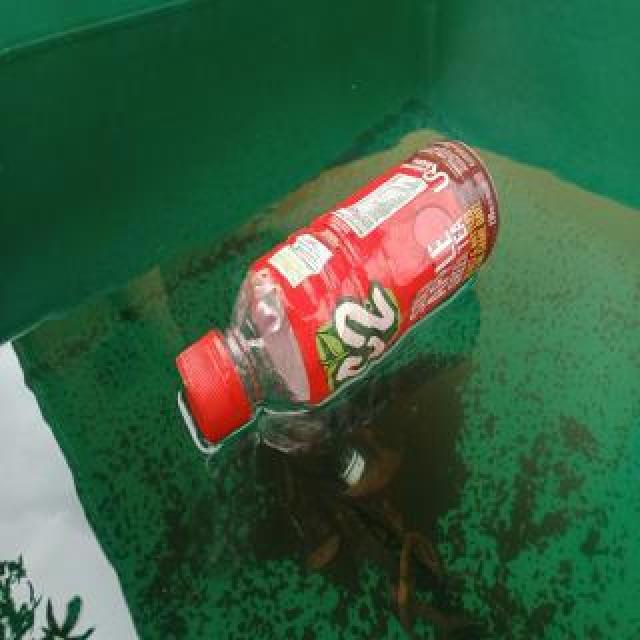bottle: (174, 135, 506, 441)
